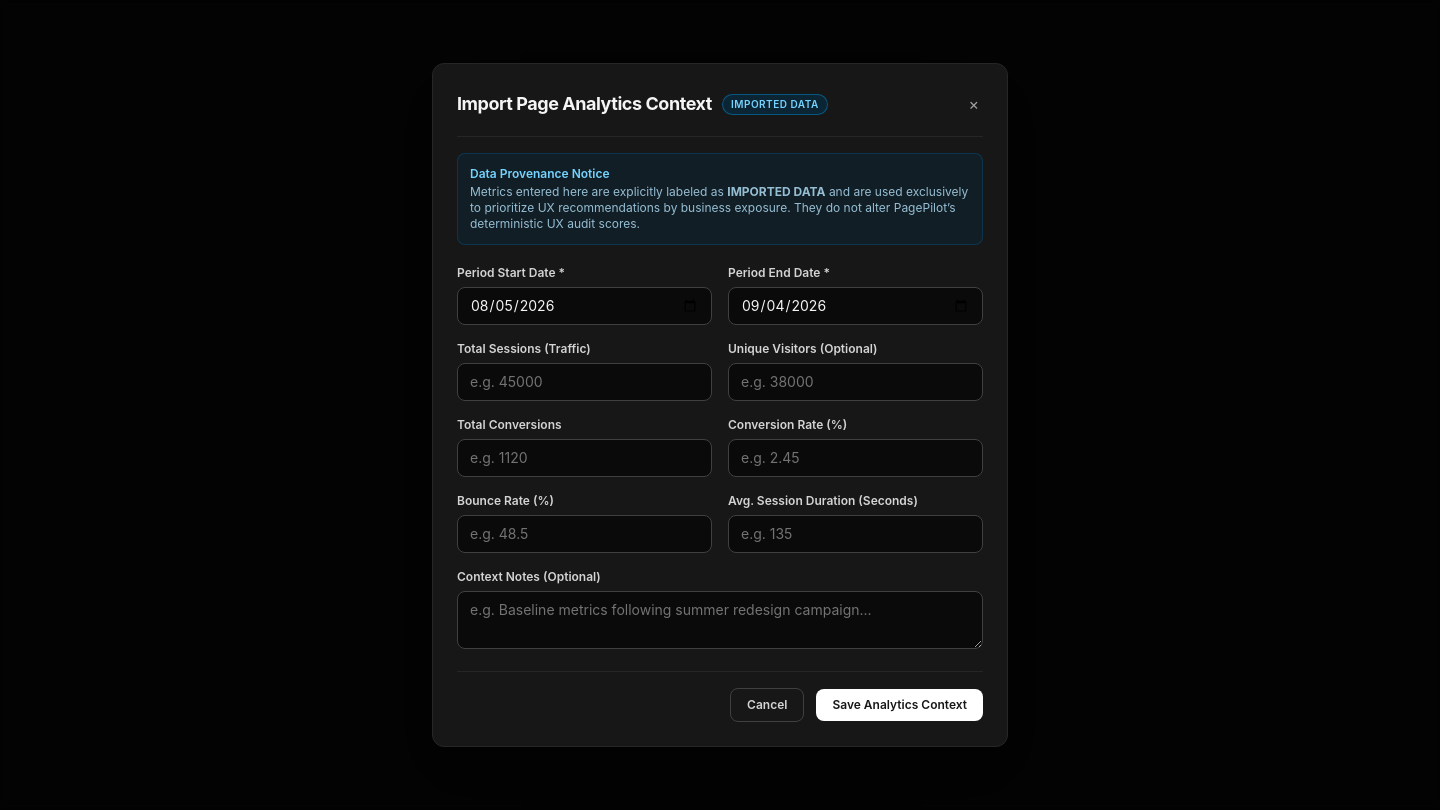
Test: Page Analytics UI › ImportAnalyticsModal Component › validates that start date cannot be after end date
Step 1. Type "2026-09-10" into the date field labelled "Period Start Date *" → (584,306), box [457,287,712,325]
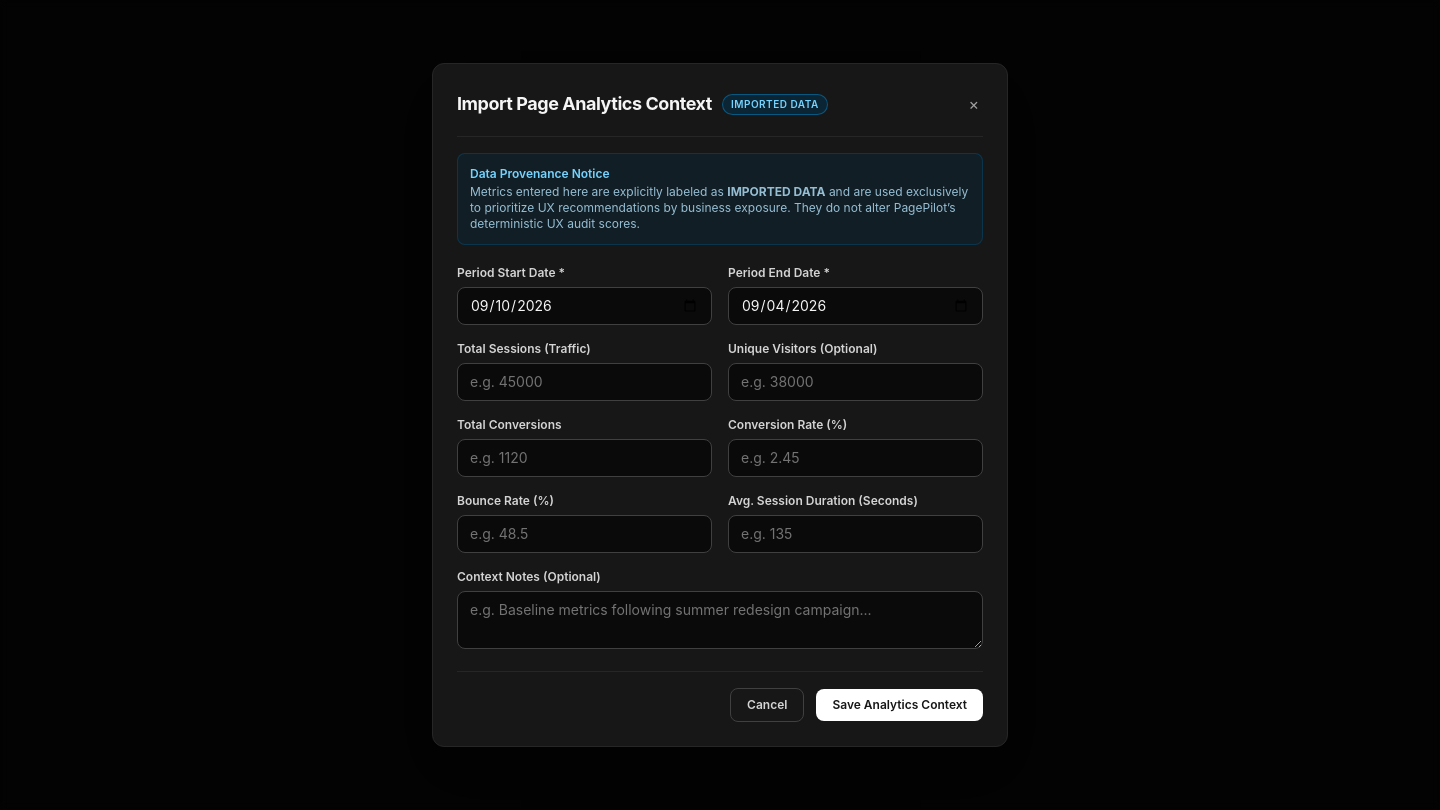
Step 2. Type "2026-09-01" into the date field labelled "Period End Date *" → (856,306), box [728,287,983,325]
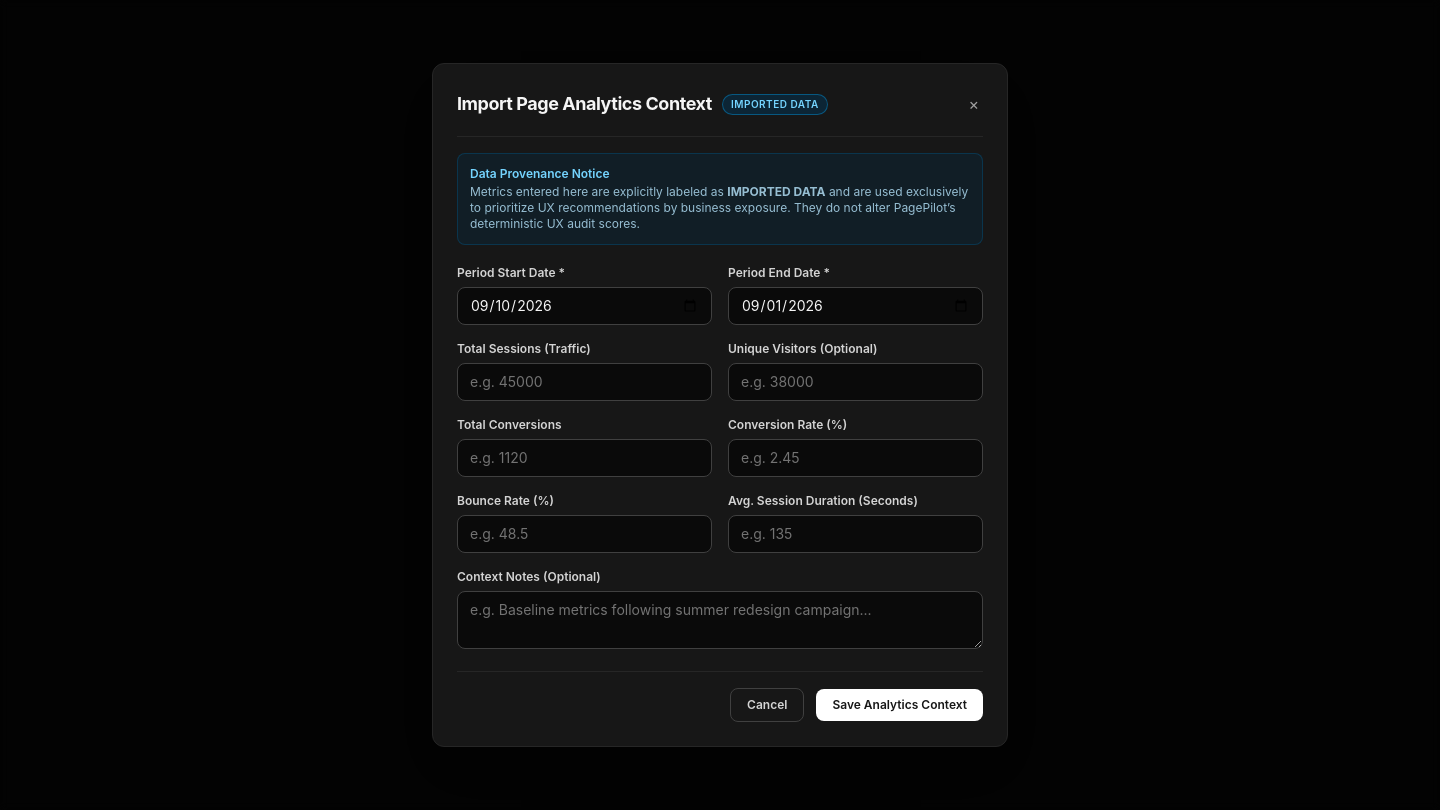
Step 3. Click the button "Save Analytics Context" → (900,705), box [816,689,983,721]
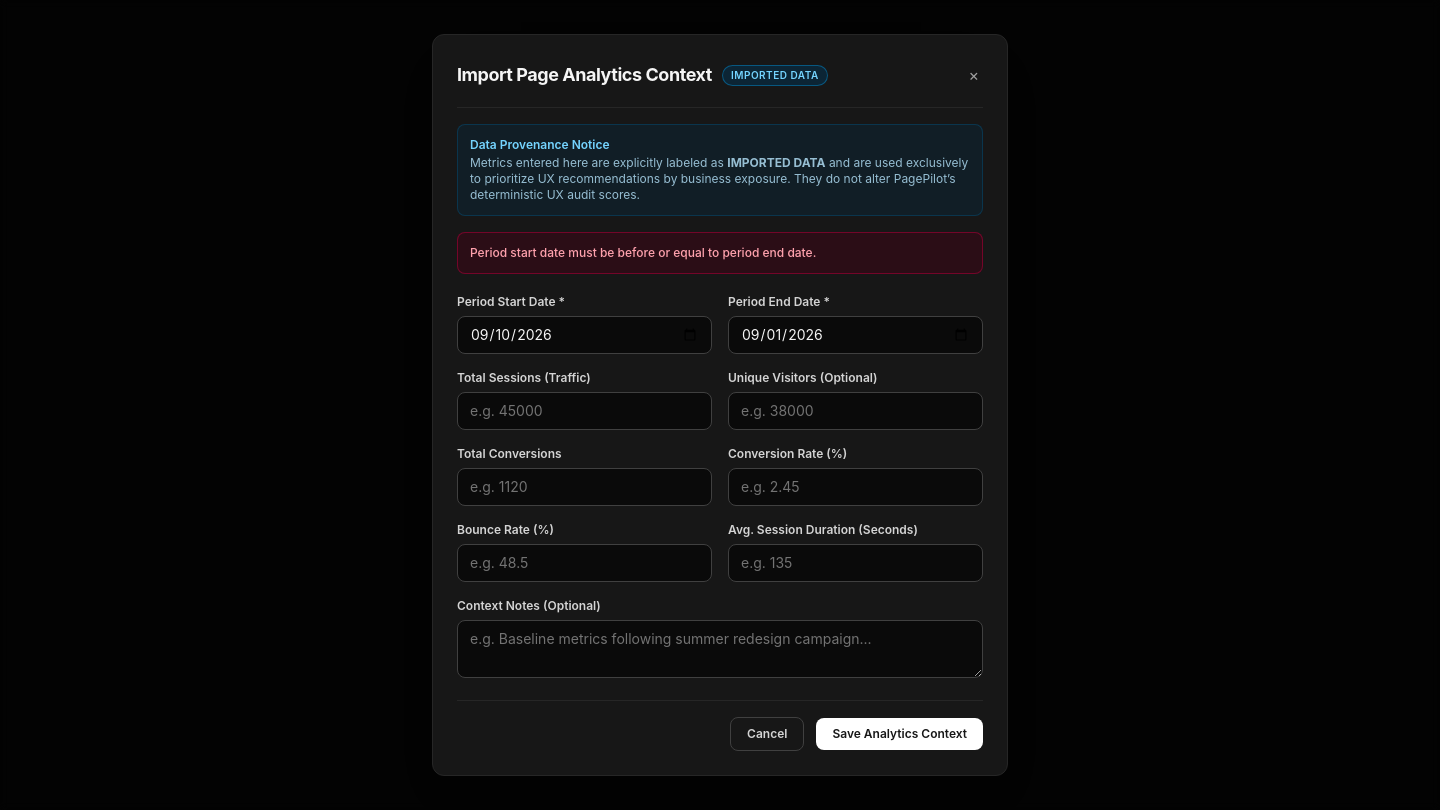
Check: the text "Period start date must be before or equal to period end date." is shown, box [457,232,983,274]
